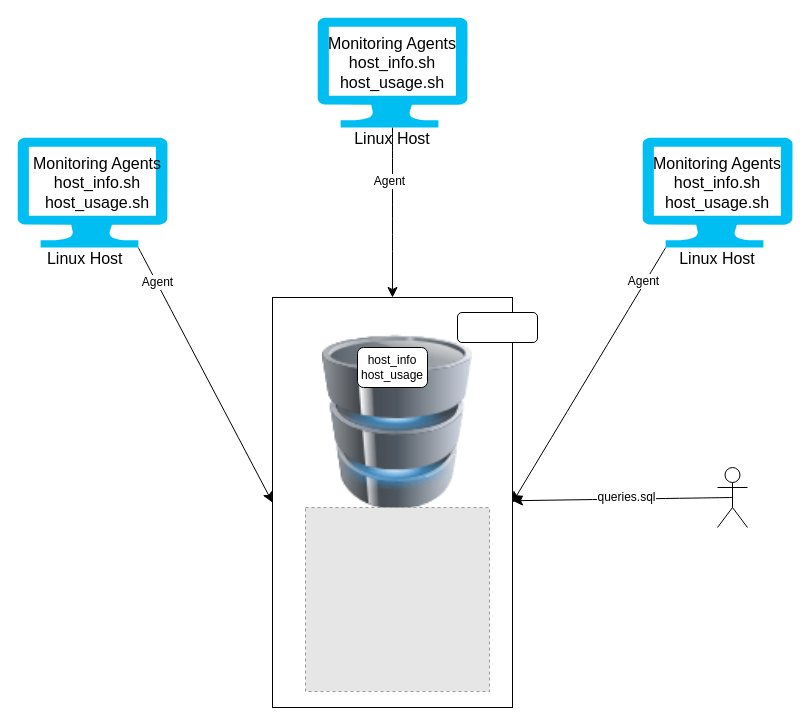
Some shapes in this 809 by 725 pixel diagram are drawn without their labels. Grey dashed boxes stand in for pictures. Each missing label, with the centre of its shape:
"Port: 5432" belongs at pixel 497 327.
"User" belongs at pixel 732 497.
